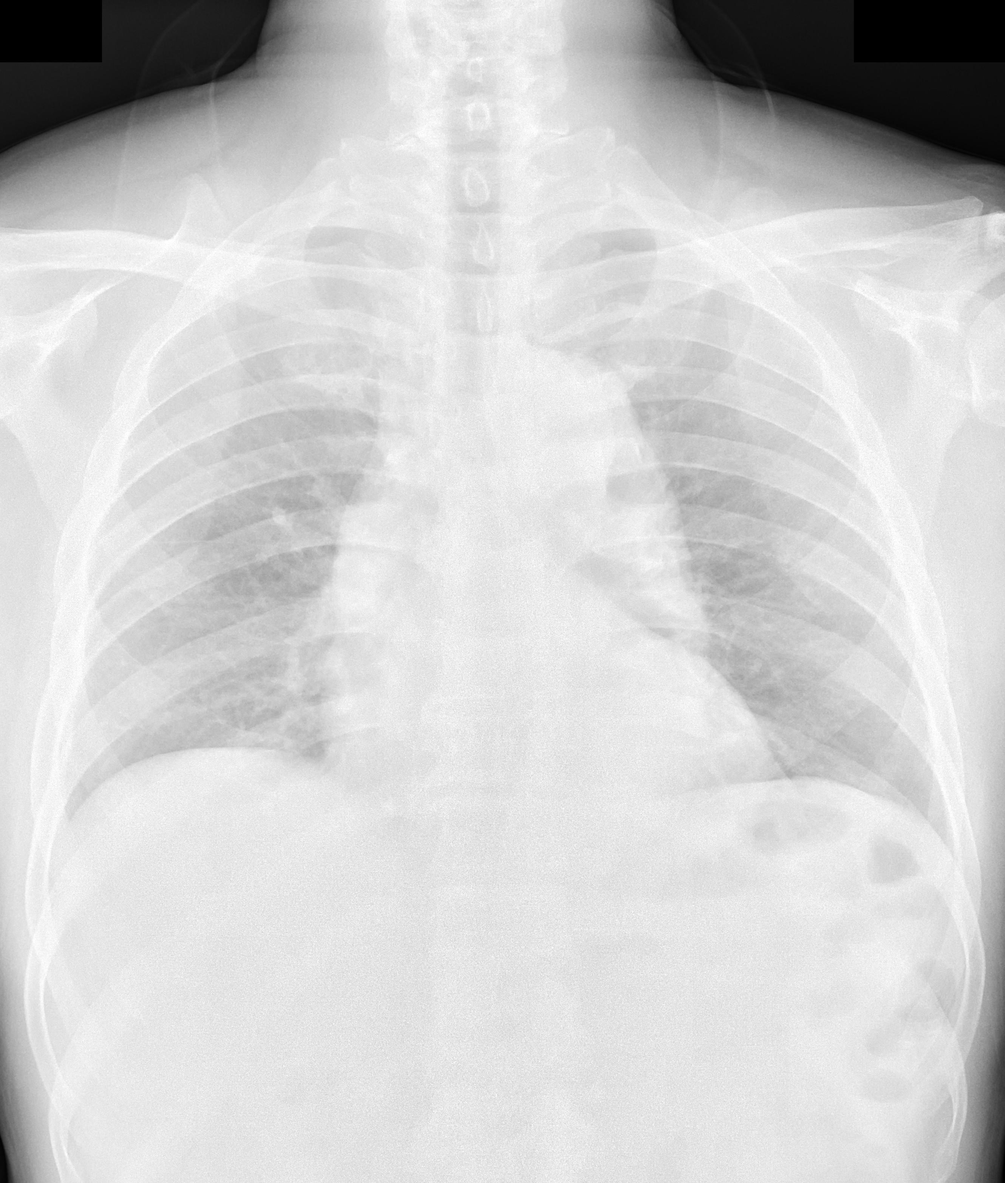Aortic enlargement: (323, 335, 638, 639)
